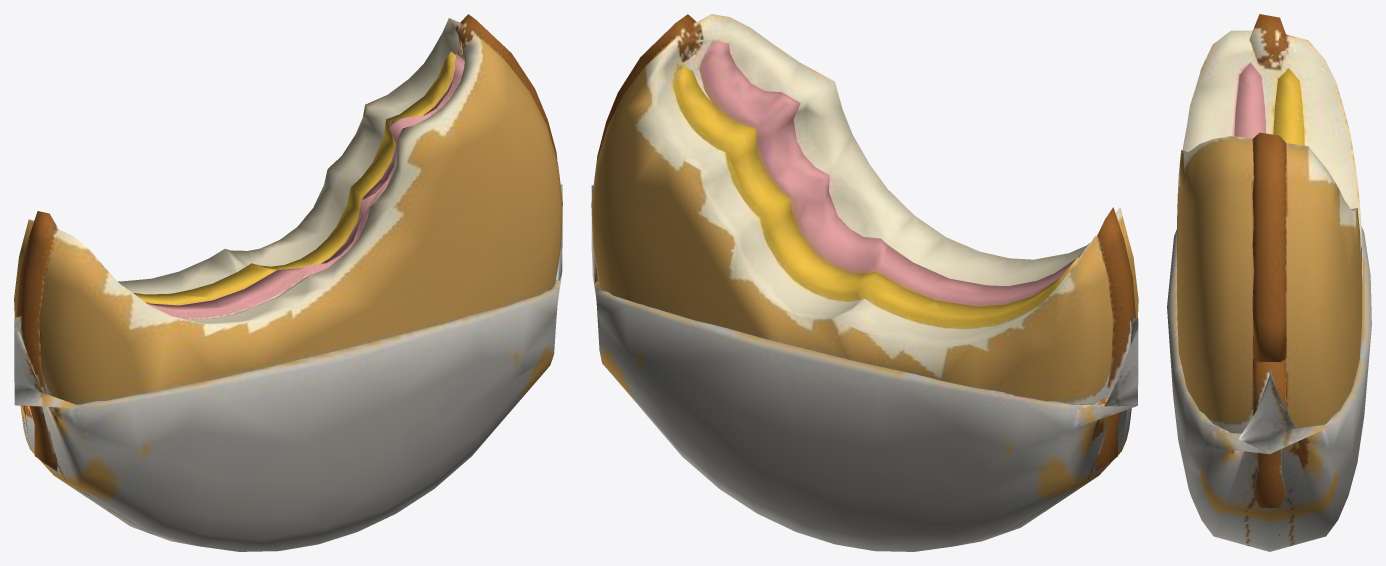
The model's file is hotsand_b2.glb.
The picture shows the model from 3 angles, left to right: view 1: azimuth 30°, elevation 25°; view 2: azimuth 150°, elevation 25°; view 3: azimuth 270°, elevation 25°; orthographic projection.
Parts seen in each view (by area): view 1: prop_hotsand_b2_felt; view 2: prop_hotsand_b2_felt; view 3: prop_hotsand_b2_felt.
Part boxes in pixels (x1,y1,x2,y2): prop_hotsand_b2_felt: [14, 14, 562, 551]; prop_hotsand_b2_felt: [591, 14, 1138, 551]; prop_hotsand_b2_felt: [1167, 14, 1371, 551].
Size of the model in its own units: 0.1686 by 0.1408 by 0.0546.
Materials: 1 (1 with a texture image).
